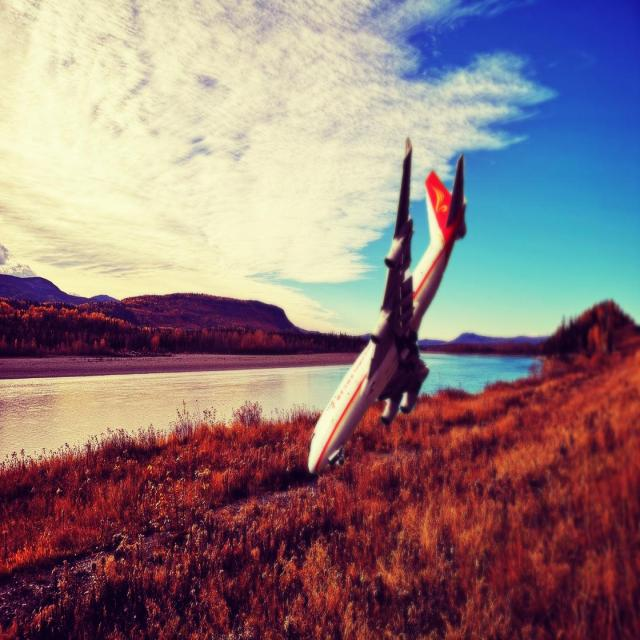airplane: (307, 135, 467, 475)
